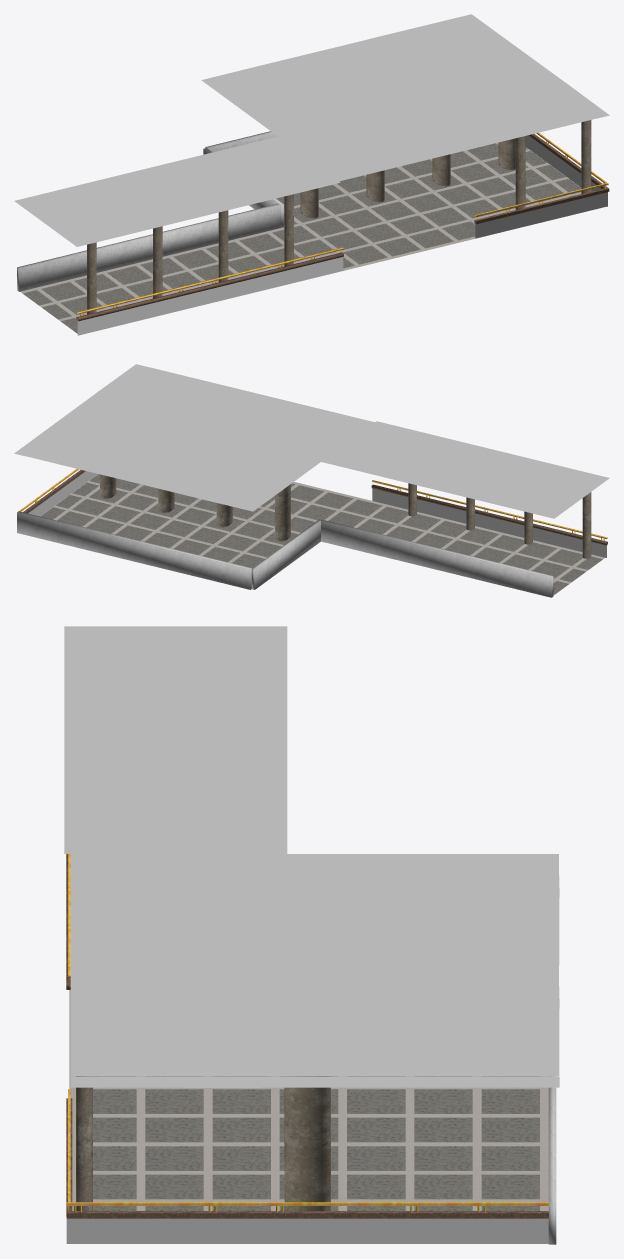
File: Entorno.obj
The picture shows the model from 3 angles, top to bottom: view 1: azimuth 30°, elevation 25°; view 2: azimuth 150°, elevation 25°; view 3: azimuth 270°, elevation 25°; orthographic projection. The views are drawn at different scales.
Visible parts, largest first — view 1: Techo002, Techo005, Techo004, Piso001, Piso006, Box003, Laterales001, Piso003, Piso002, Laterales002, Techo003, Laterales003 (+11 smaller); view 2: Techo005, Techo002, Techo004, Piso001, Piso006, Box001, Box003, Laterales001, Piso003, Piso002, Box002, Techo003 (+6 smaller); view 3: Techo002, Techo005, Techo004, Piso006, Piso001, Laterales003, Techo003, Columnas010, Columnas006, Box001, Laterales002.
Boxes of the visible parts, <box> form: Techo002: <box>330,17,596,149</box>; Techo005: <box>201,48,467,181</box>; Techo004: <box>14,136,340,246</box>; Piso001: <box>276,173,474,270</box>; Piso006: <box>384,142,581,238</box>; Box003: <box>17,203,280,291</box>; Laterales001: <box>76,247,343,335</box>; Piso003: <box>20,259,191,333</box>; Piso002: <box>152,227,323,288</box>; Laterales002: <box>474,183,607,238</box>; Techo003: <box>459,14,609,118</box>; Laterales003: <box>525,132,609,206</box>; Techo005: <box>139,394,374,511</box>; Techo002: <box>25,366,260,483</box>; Techo004: <box>321,421,609,518</box>; Piso001: <box>157,482,371,568</box>; Piso006: <box>40,474,214,544</box>; Box001: <box>17,511,251,589</box>; Box003: <box>319,519,553,597</box>; Laterales001: <box>371,480,607,557</box>; Piso003: <box>457,529,604,595</box>; Piso002: <box>341,501,488,552</box>; Box002: <box>251,519,321,589</box>; Techo003: <box>14,364,146,455</box>; Techo002: <box>70,965,559,1076</box>; Techo005: <box>70,854,559,965</box>; Techo004: <box>64,626,287,853</box>; Piso006: <box>72,1130,548,1210</box>; Piso001: <box>69,1016,548,1129</box>; Laterales003: <box>66,1202,548,1243</box>; Techo003: <box>70,1076,559,1087</box>; Columnas010: <box>284,1076,330,1210</box>; Columnas006: <box>76,1076,92,1210</box>; Box001: <box>548,1076,556,1244</box>; Laterales002: <box>66,1089,72,1216</box>.
Bounding box in the file's own units: 37.32 × 6.01 × 16.93.
